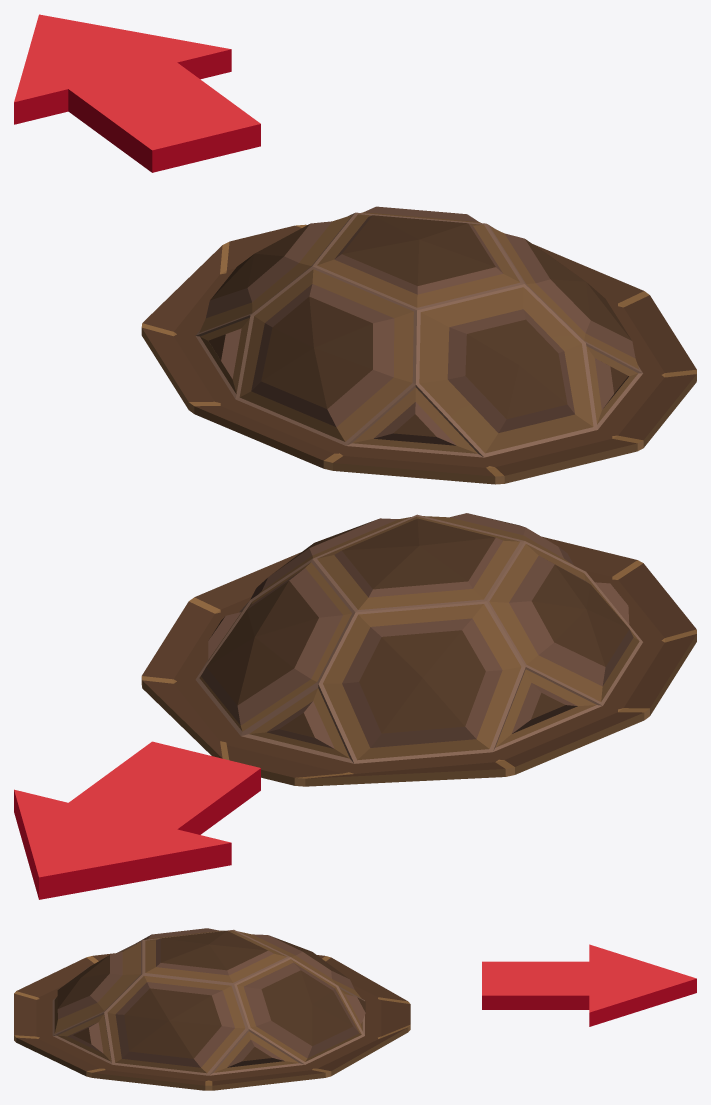
Rendered from Turtle.glb.
The picture shows the model from 3 angles, top to bottom: view 1: azimuth 30°, elevation 25°; view 2: azimuth 150°, elevation 25°; view 3: azimuth 270°, elevation 25°; orthographic projection. The views are drawn at different scales.
Parts seen in each view (by area): view 1: Pirate_PlatformTurtle, Plane.004; view 2: Pirate_PlatformTurtle, Plane.004; view 3: Pirate_PlatformTurtle, Plane.004.
Part boxes in pixels (x1,y1,x2,y2): Pirate_PlatformTurtle: [141, 206, 696, 484]; Plane.004: [14, 14, 260, 172]; Pirate_PlatformTurtle: [141, 513, 696, 786]; Plane.004: [14, 741, 260, 899]; Pirate_PlatformTurtle: [14, 928, 410, 1090]; Plane.004: [482, 944, 696, 1026].
Size of the model in its own units: 1.45 by 0.3559 by 2.93.
2 materials, 2 textured.
